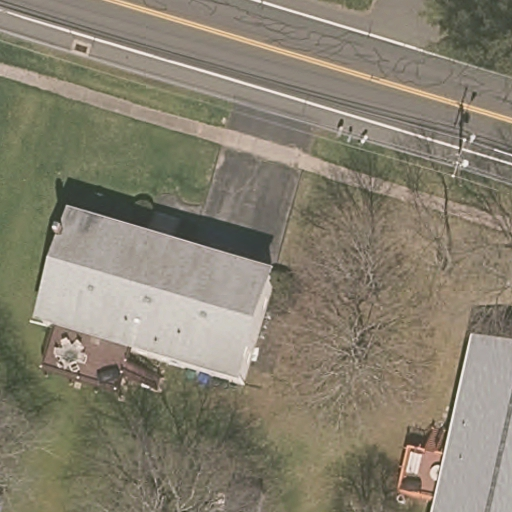DT: (450, 135, 471, 178)
